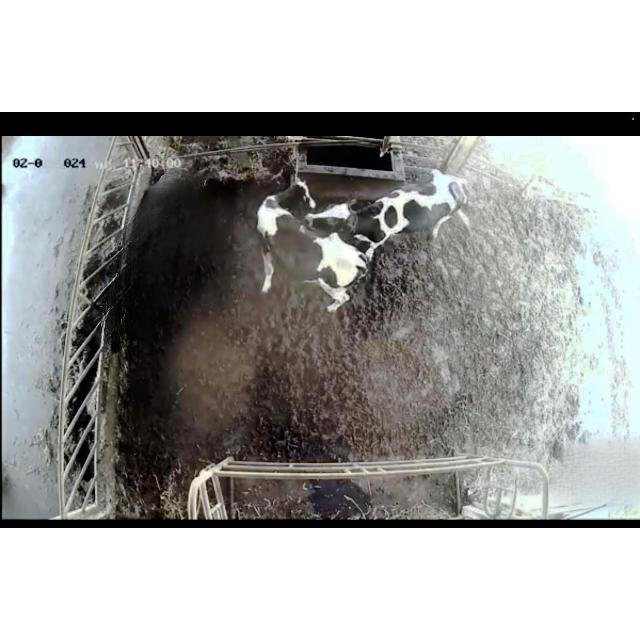propping: (293, 197, 372, 251)
